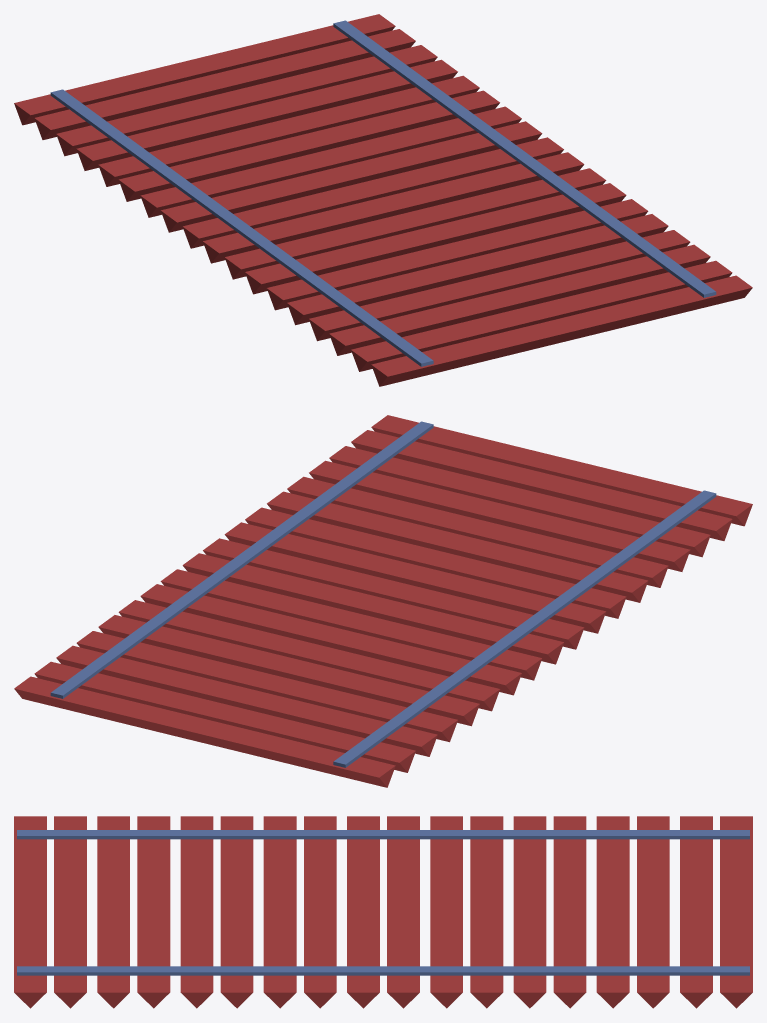
The model's file is Makisu_low.fbx.
3 renders of one model, top to bottom at view 1: azimuth 30°, elevation 25°; view 2: azimuth 150°, elevation 25°; view 3: azimuth 270°, elevation 25°, orthographic.
Parts seen in each view (by area): view 1: Mesh; view 2: Mesh; view 3: Mesh.
Boxes of the visible parts, left/top/right/bottom form: Mesh: left=14, top=14, right=752, bottom=386; Mesh: left=14, top=415, right=752, bottom=787; Mesh: left=14, top=816, right=752, bottom=1008.
Bounding box in the file's own units: 0.3 × 0.0154 × 0.5318.
